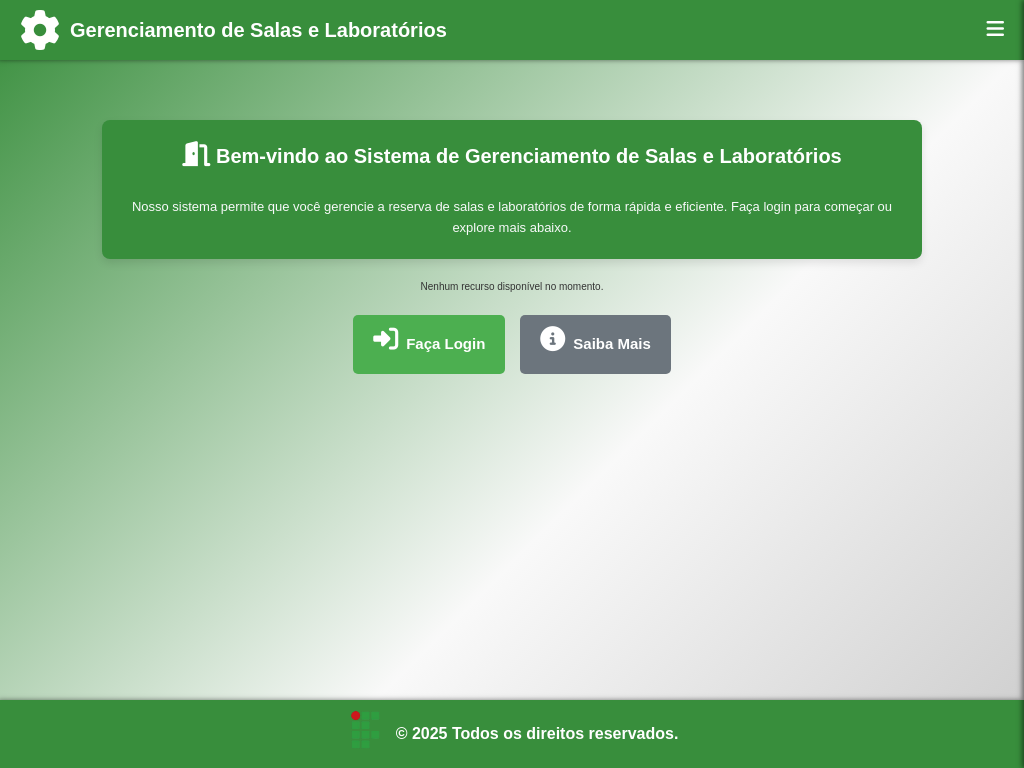
Test case: Receber Feedbacks › Deve exibir mensagem de erro caso ocorra um erro ao enviar o feedback
The image size is (1024, 768).
Click the element with class "menu-toggle": coordinates (996, 30) [987,19,1005,41]
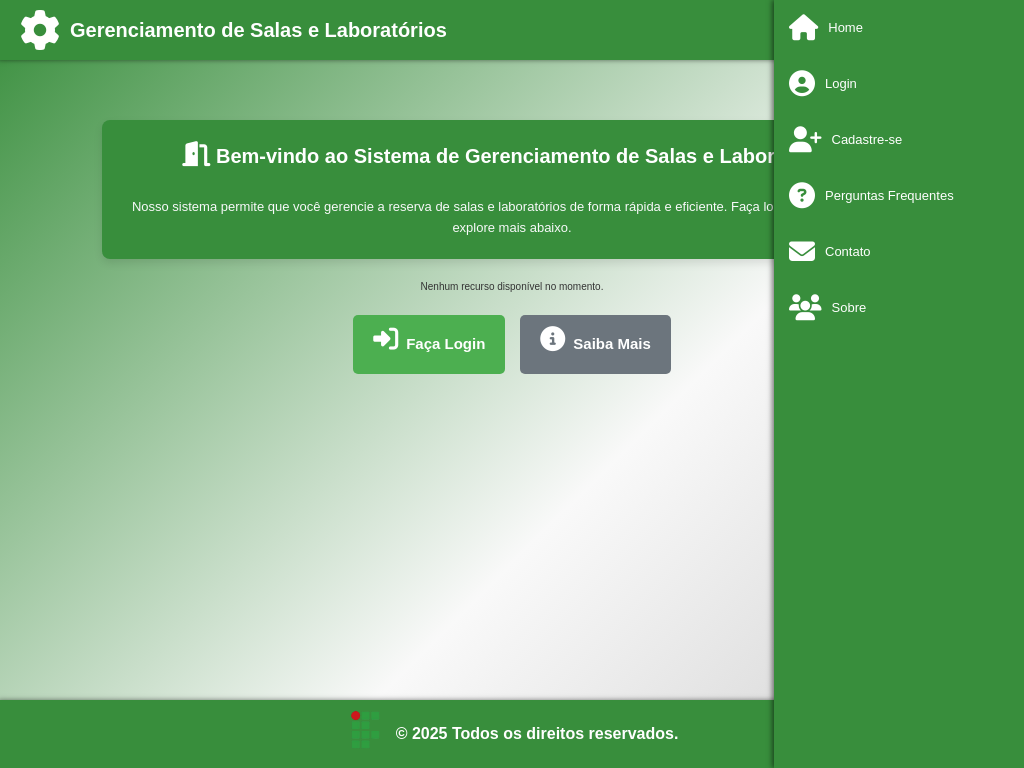
Click the link to "/contato": coordinates (830, 252) [789,239,871,265]
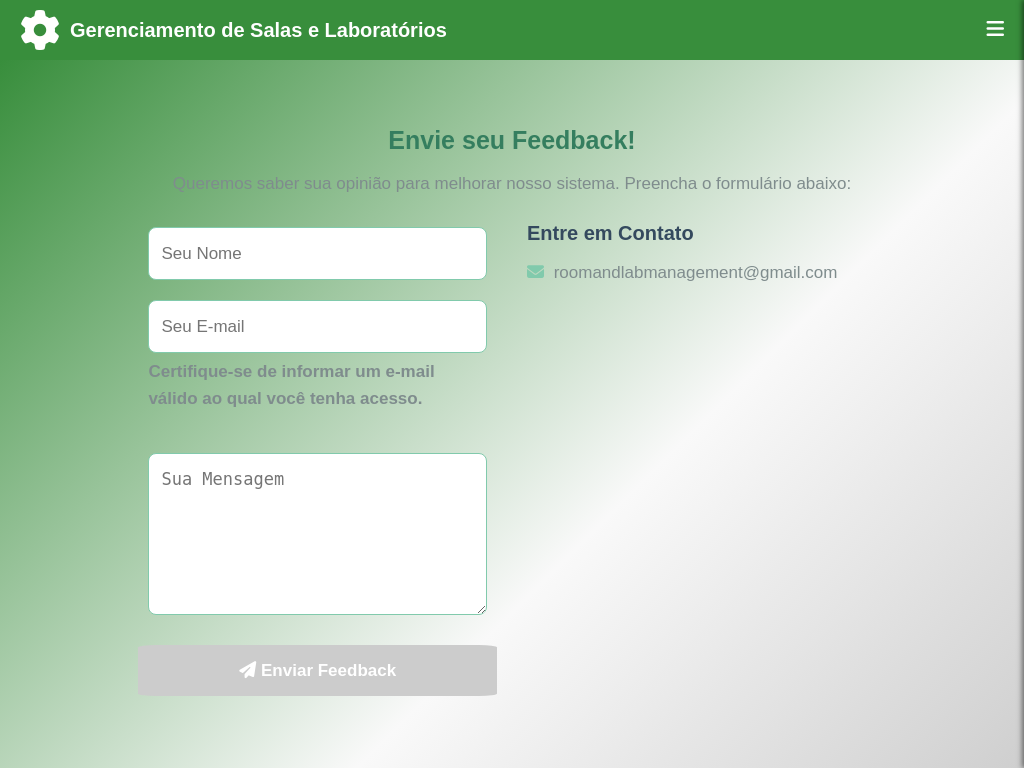
In the field with placeholder "Seu Nome": coordinates (318, 254) [148,227,487,280], type "Robson Albuquerque"
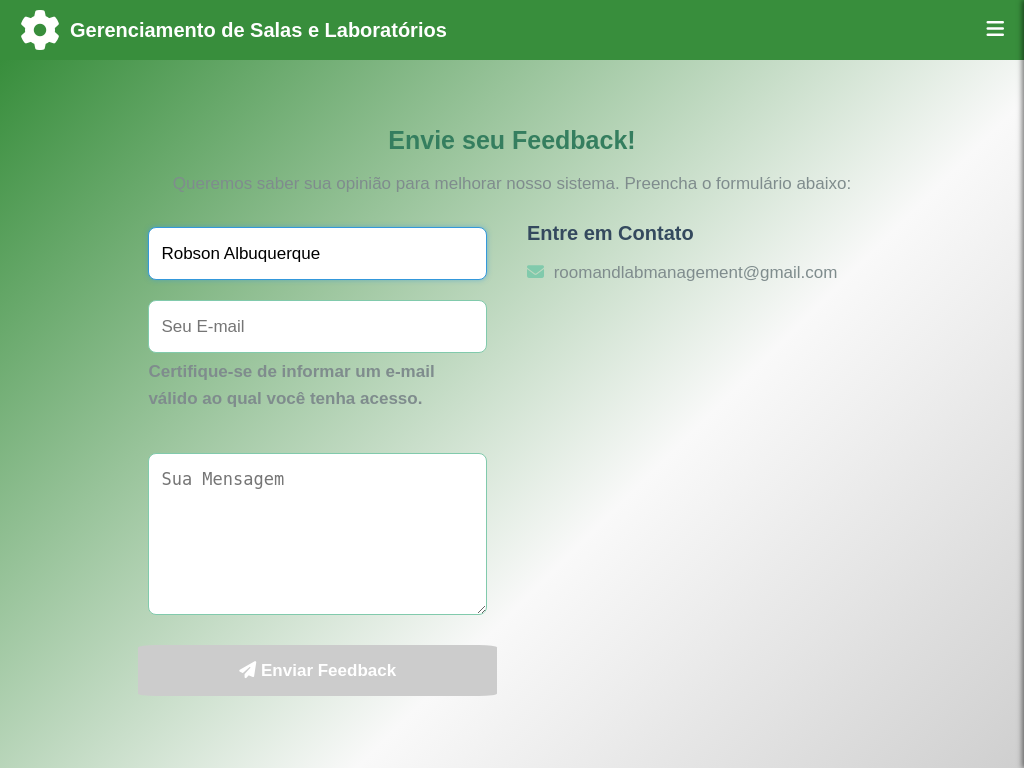
In the field with placeholder "Seu E-mail": coordinates (318, 327) [148,300,487,353], type "robson@example.com"
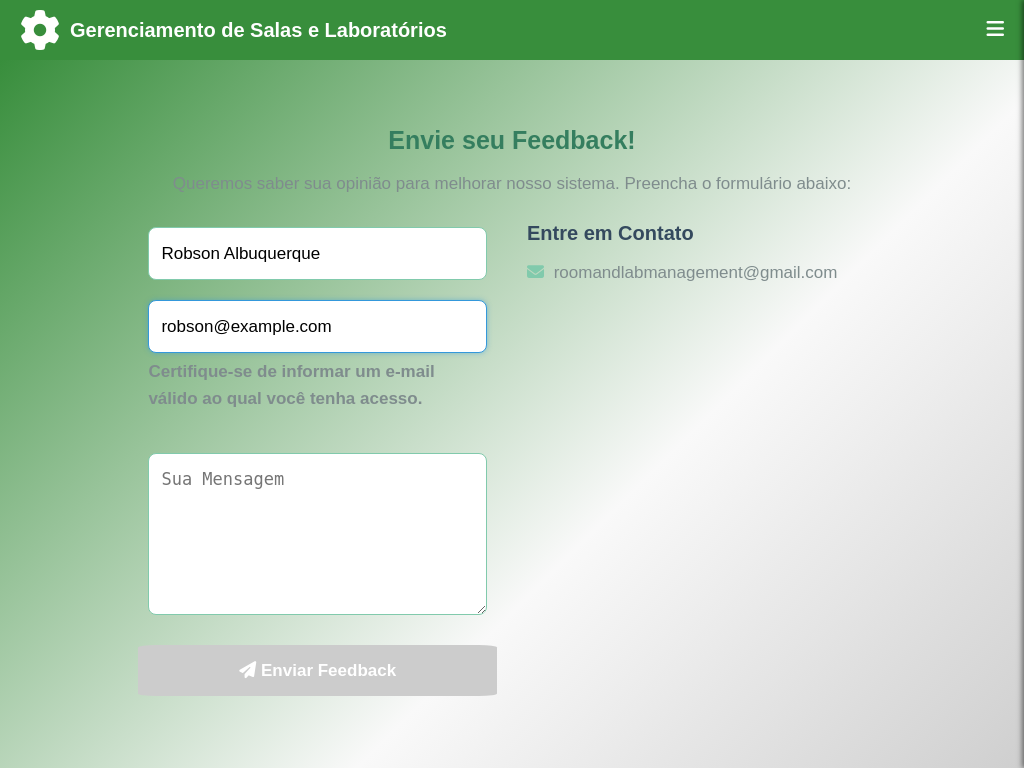
In the text box with placeholder "Sua Mensagem": coordinates (318, 534) [148,453,487,615], type "Este é meu feedback!"
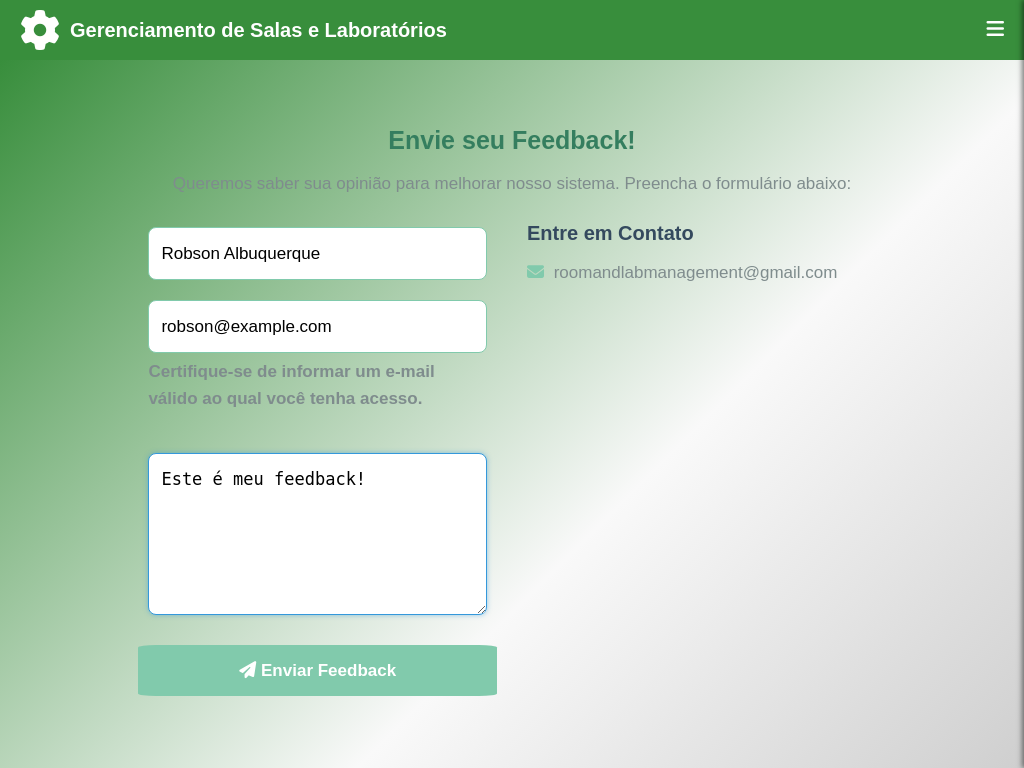
Click the submit button: coordinates (318, 671) [138,645,497,696]
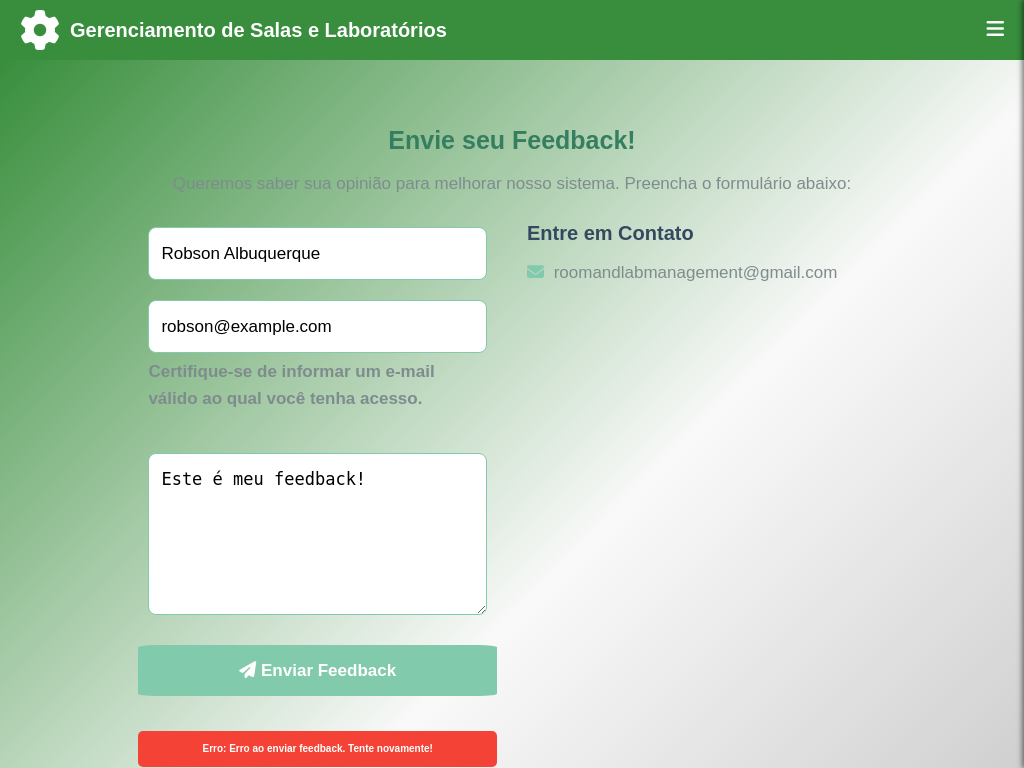
Now the text with class "error" shows "Erro ao enviar feedback. Tente novamente!", box [138,731,497,767]
